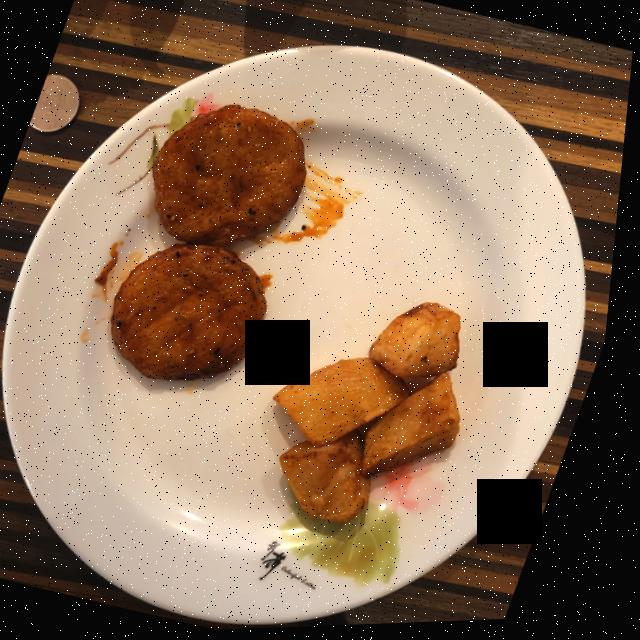coin: (31, 74, 82, 133)
fish cake: (117, 106, 310, 382)
fried potato: (282, 306, 469, 524)
